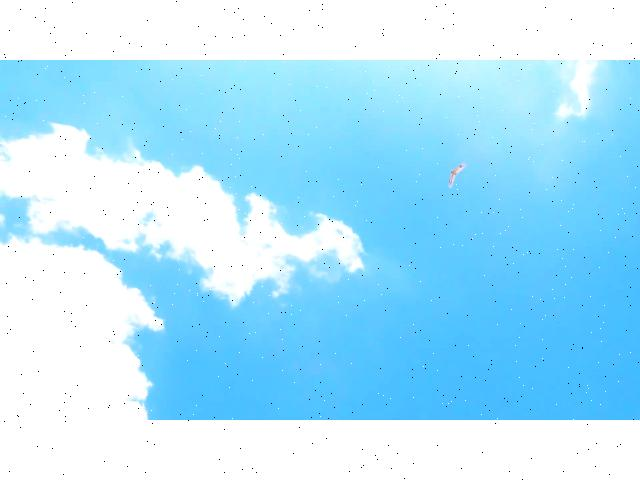Anti-Drone: (434, 146, 472, 196)
